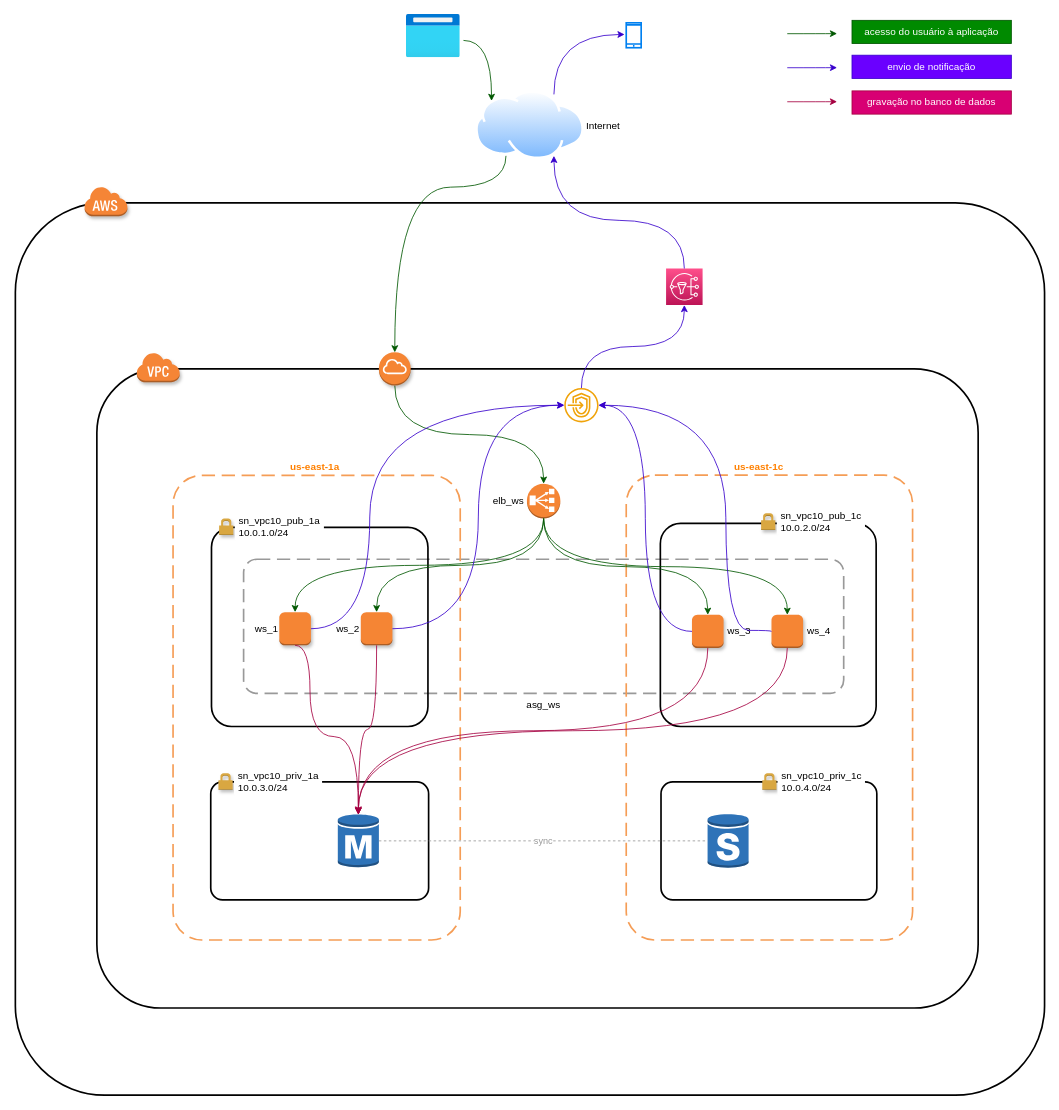
This 1059x1110 diagram has some shape labels left out. Each missing label, with the centre of its shape:
"igw_vpc10" belongs at (x=395, y=369).
"sns_app" belongs at (x=684, y=286).
"us-east-1" belongs at (x=106, y=202).
"User browser" belongs at (x=433, y=35).
"User mobile" belongs at (x=633, y=35).
"vpc10 10.0.0.0/16" belongs at (x=158, y=368).
"vpc_ep_vpc10" belongs at (x=581, y=404).
